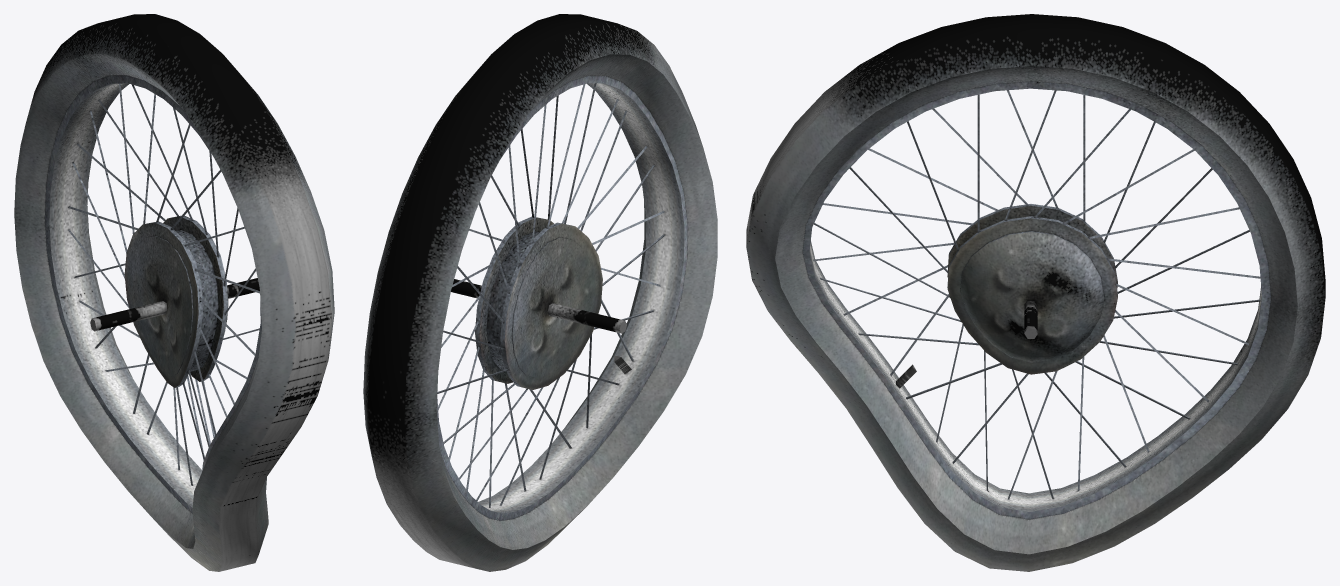
Rendered from BrokenTire.fbx.
The picture shows the model from 3 angles, left to right: view 1: azimuth 30°, elevation 25°; view 2: azimuth 150°, elevation 25°; view 3: azimuth 270°, elevation 25°; orthographic projection.
Visible parts, largest first — view 1: BrokenTire; view 2: BrokenTire; view 3: BrokenTire.
Boxes of the visible parts, left/top/right/bottom form: BrokenTire: left=14, top=14, right=334, bottom=571; BrokenTire: left=363, top=14, right=717, bottom=571; BrokenTire: left=746, top=14, right=1325, bottom=571.
Size of the model in its own units: 25.52 by 71.43 by 71.15.
